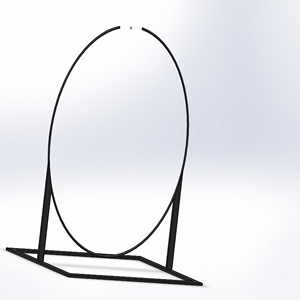circle: (6, 23, 206, 289)
